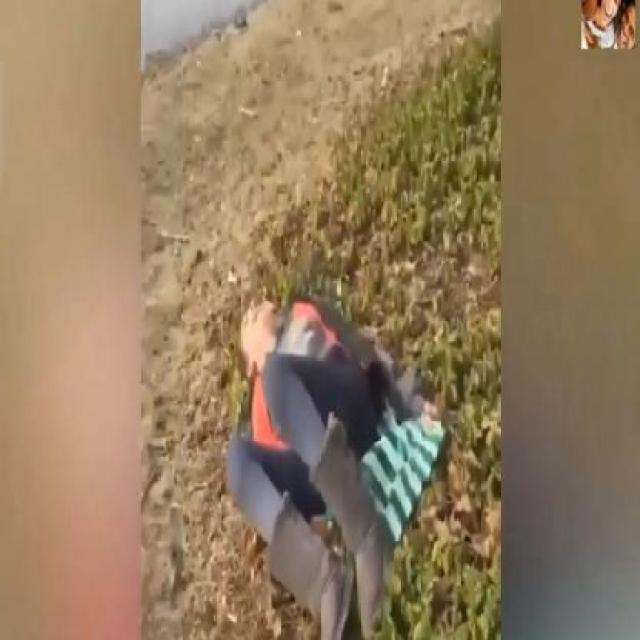fall: (229, 287, 413, 639)
